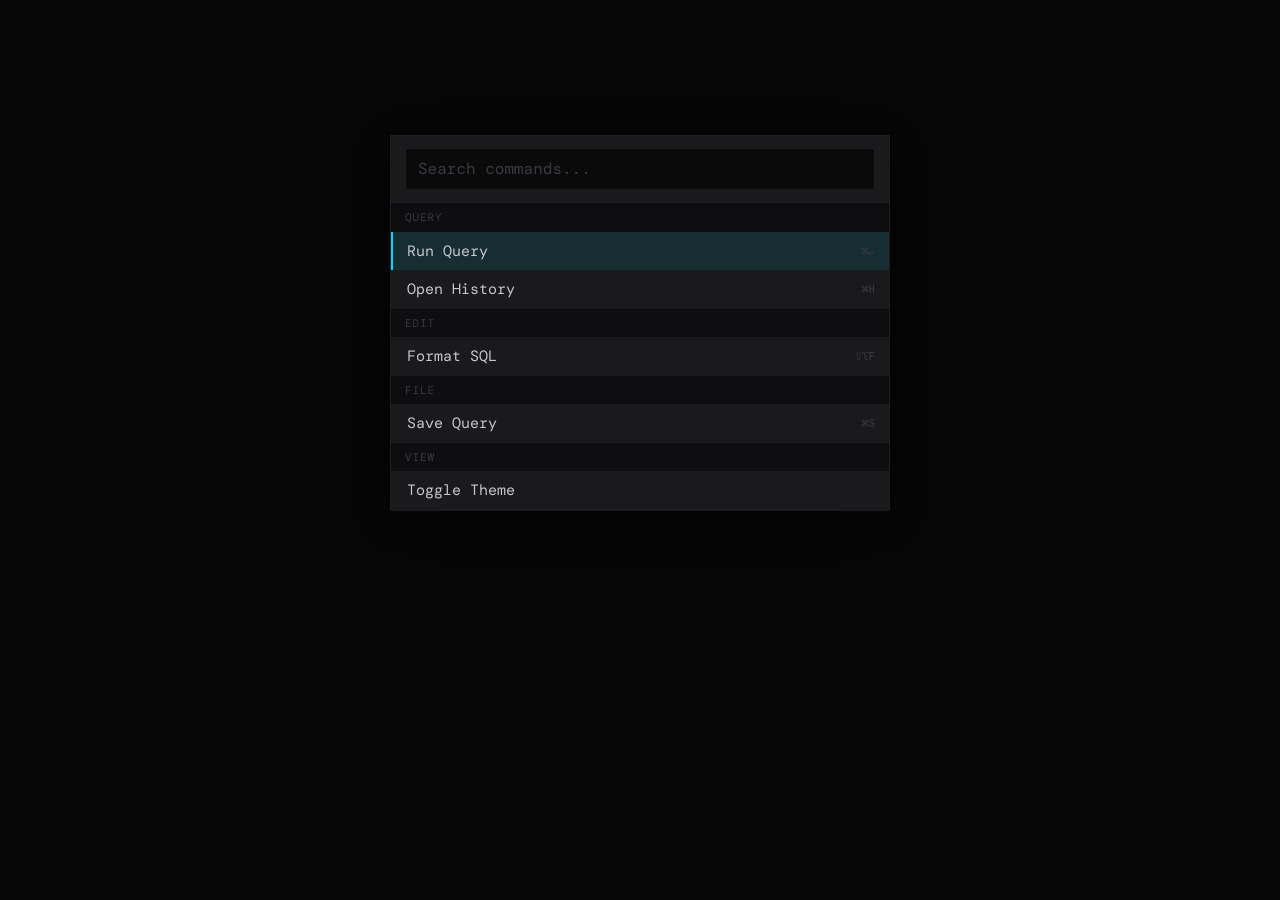
CommandPalette › filters actions by search input (fuzzy)
Type "query" into the field with placeholder "Search commands..." at (640, 169), box [405,148,875,190]
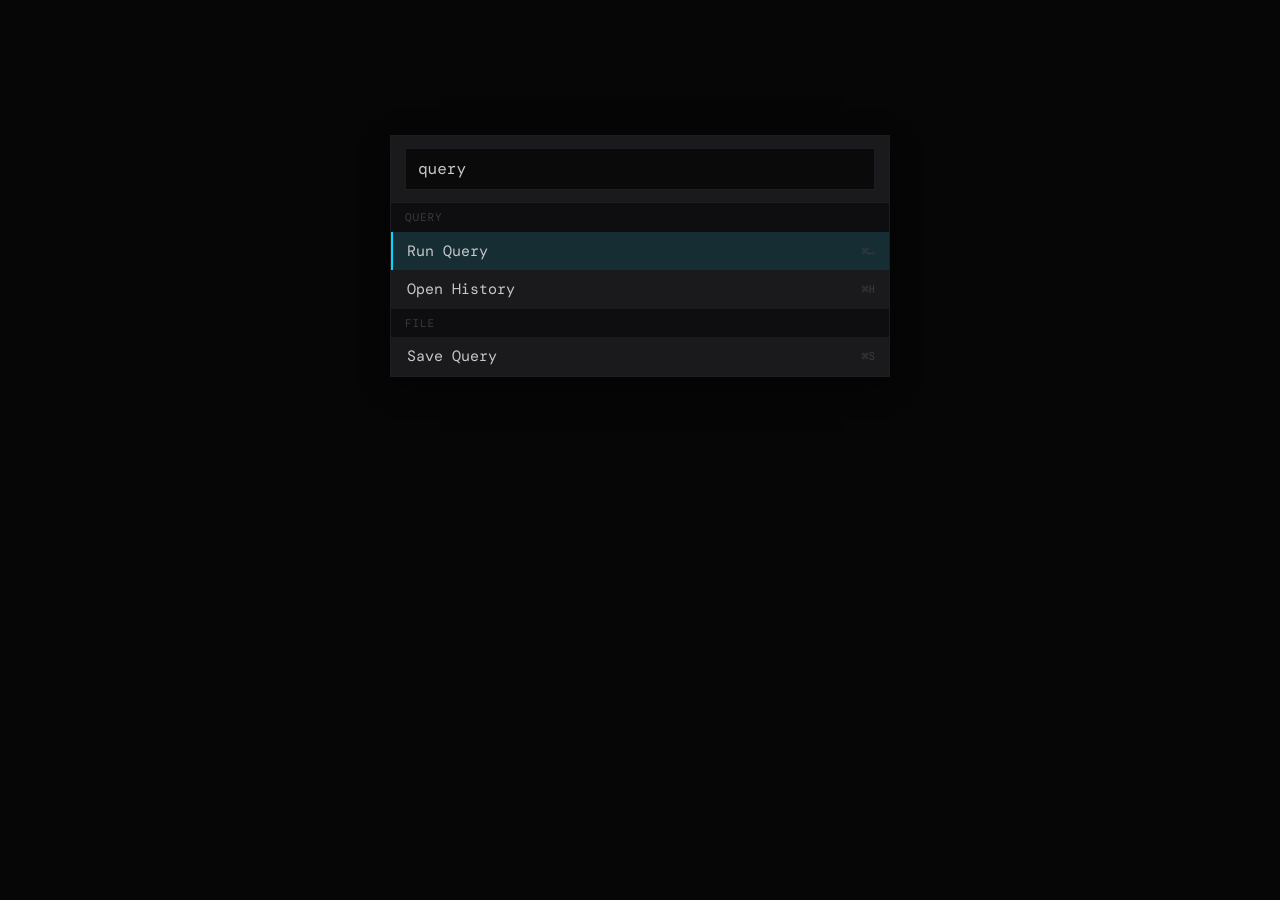
Expected: the text "Run Query" is shown, [407,240,488,262]
Result: the text "Toggle Theme" is gone
